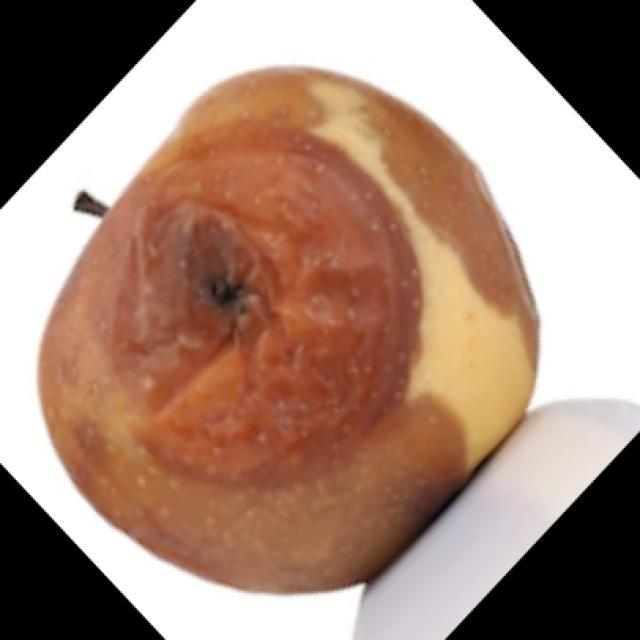Rotten: (70, 80, 542, 585)
